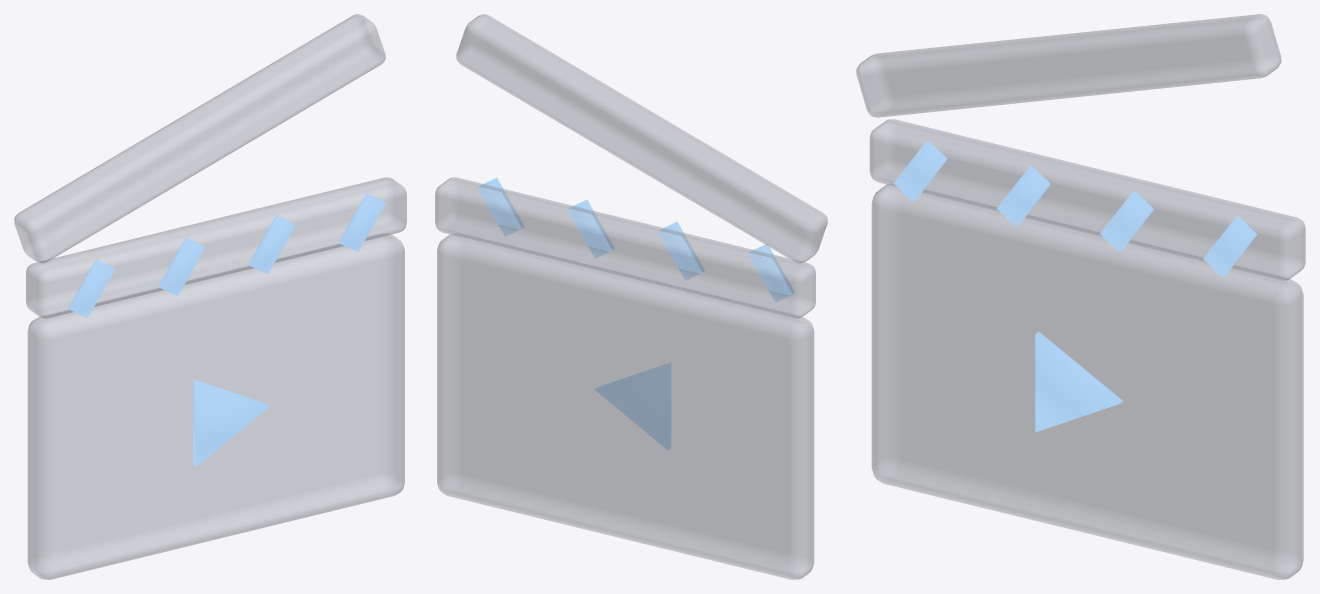
Rendered from motion.glb.
3 renders of one model, left to right at view 1: azimuth 30°, elevation 25°; view 2: azimuth 150°, elevation 25°; view 3: azimuth 330°, elevation 25°, orthographic. The views are drawn at different scales.
Parts seen in each view (by area): view 1: ardoise, clapet, barre, lecture.001, raie0, raie1, raie3, raie2; view 2: ardoise, clapet, barre, lecture.001, raie1, raie3, raie2, raie0; view 3: ardoise, clapet, barre, lecture.001, raie3, raie0, raie1, raie2.
Boxes of the visible parts, left/top/right/bottom form: ardoise: left=27, top=233, right=404, bottom=579; clapet: left=14, top=14, right=385, bottom=263; barre: left=26, top=177, right=406, bottom=318; lecture.001: left=193, top=379, right=269, bottom=466; raie0: left=68, top=259, right=115, bottom=318; raie1: left=158, top=237, right=205, bottom=296; raie3: left=338, top=193, right=385, bottom=251; raie2: left=248, top=215, right=295, bottom=273; ardoise: left=437, top=233, right=814, bottom=579; clapet: left=456, top=14, right=827, bottom=263; barre: left=435, top=177, right=815, bottom=318; lecture.001: left=594, top=362, right=671, bottom=449; raie1: left=657, top=221, right=704, bottom=280; raie3: left=477, top=177, right=524, bottom=236; raie2: left=567, top=200, right=614, bottom=258; raie0: left=748, top=244, right=794, bottom=302; ardoise: left=871, top=184, right=1303, bottom=579; clapet: left=856, top=14, right=1281, bottom=117; barre: left=869, top=119, right=1305, bottom=280; lecture.001: left=1035, top=332, right=1123, bottom=432; raie3: left=1203, top=216, right=1257, bottom=277; raie0: left=893, top=140, right=947, bottom=201; raie1: left=997, top=165, right=1050, bottom=226; raie2: left=1100, top=191, right=1153, bottom=252.
Bounding box in the file's own units: 0.9289 × 1.12 × 0.095.
